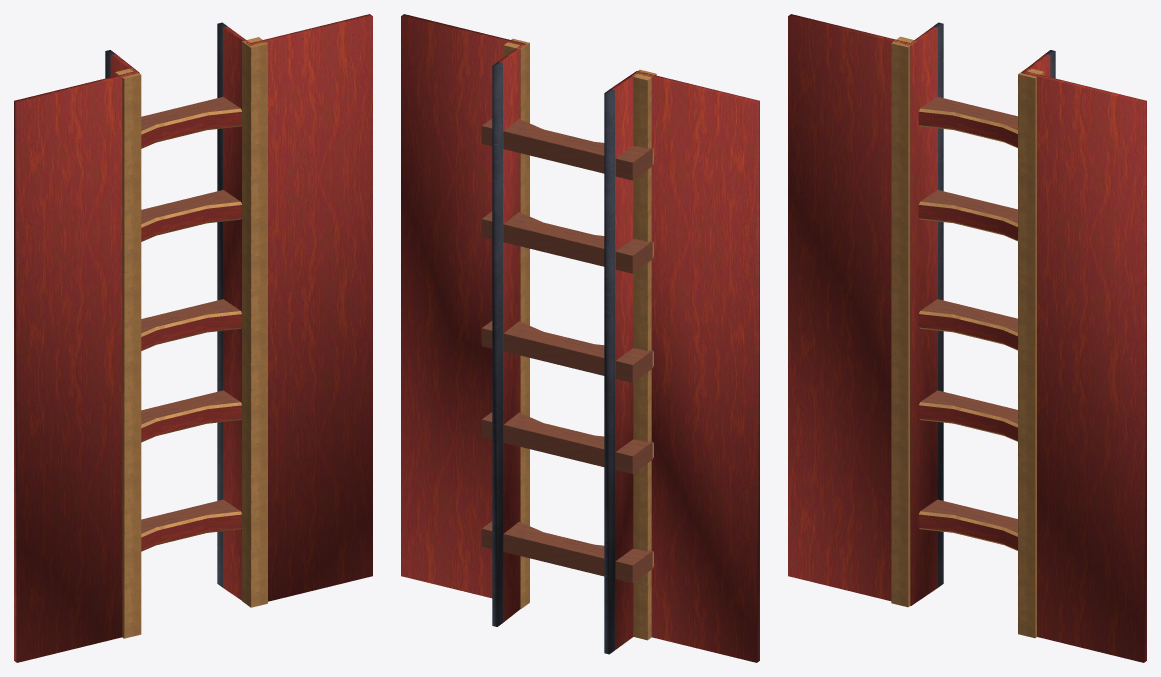
Rendered from room-roof-beam.glb.
3 renders of one model, left to right at view 1: azimuth 30°, elevation 25°; view 2: azimuth 150°, elevation 25°; view 3: azimuth 330°, elevation 25°, orthographic.
Parts seen in each view (by area): view 1: RoomRoofBeam; view 2: RoomRoofBeam; view 3: RoomRoofBeam.
Part boxes in pixels (x1,y1,x2,y2): RoomRoofBeam: (14,14,372,662); RoomRoofBeam: (401,14,759,662); RoomRoofBeam: (788,14,1146,662).
Bounding box in the file's own units: 10.75 × 16.17 × 1.74.
3 materials, 3 textured.
